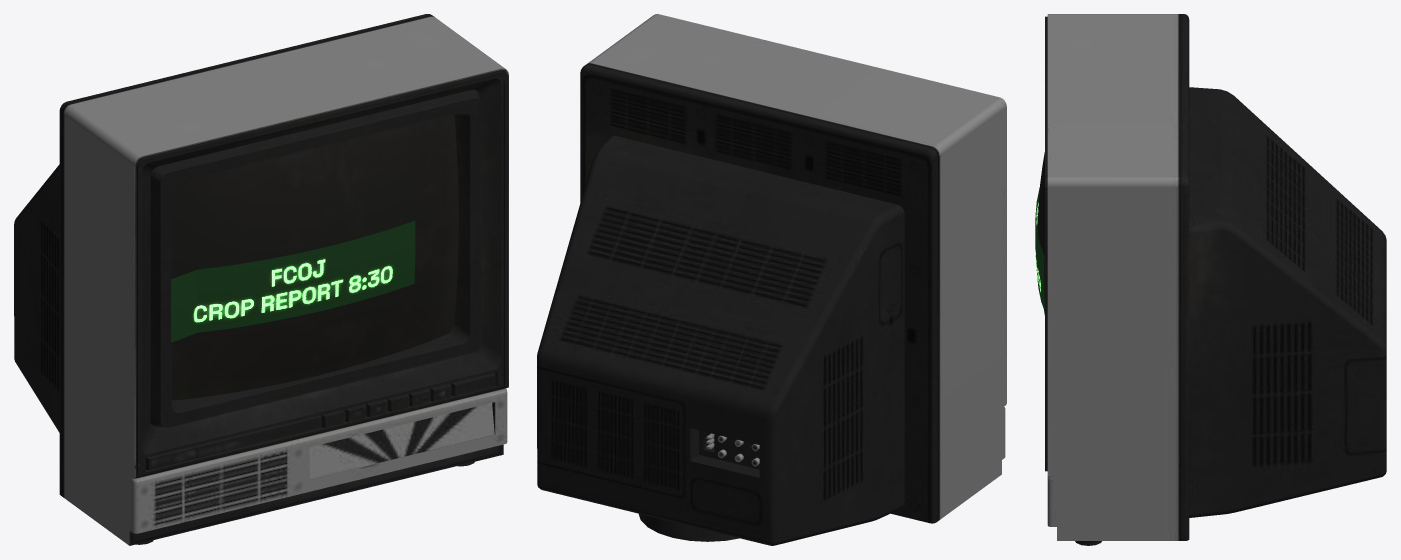
File: nyb_trading_tv.glb
3 views of the same model, side by side, from view 1: azimuth 30°, elevation 25°; view 2: azimuth 150°, elevation 25°; view 3: azimuth 270°, elevation 25° (orthographic). The views are drawn at different scales.
Visible parts, largest first — view 1: television_02, stk_lbl_022cde08ae.png; view 2: television_02; view 3: television_02, stk_lbl_022cde08ae.png.
Part boxes in pixels (x1,y1,x2,y2): television_02: (14, 14, 508, 545); stk_lbl_022cde08ae.png: (171, 221, 415, 342); television_02: (537, 14, 1006, 545); television_02: (1037, 14, 1386, 545); stk_lbl_022cde08ae.png: (1035, 188, 1044, 311).
Bounding box in the file's own units: 0.3997 × 0.4114 × 0.3526.
2 materials, 2 textured.
